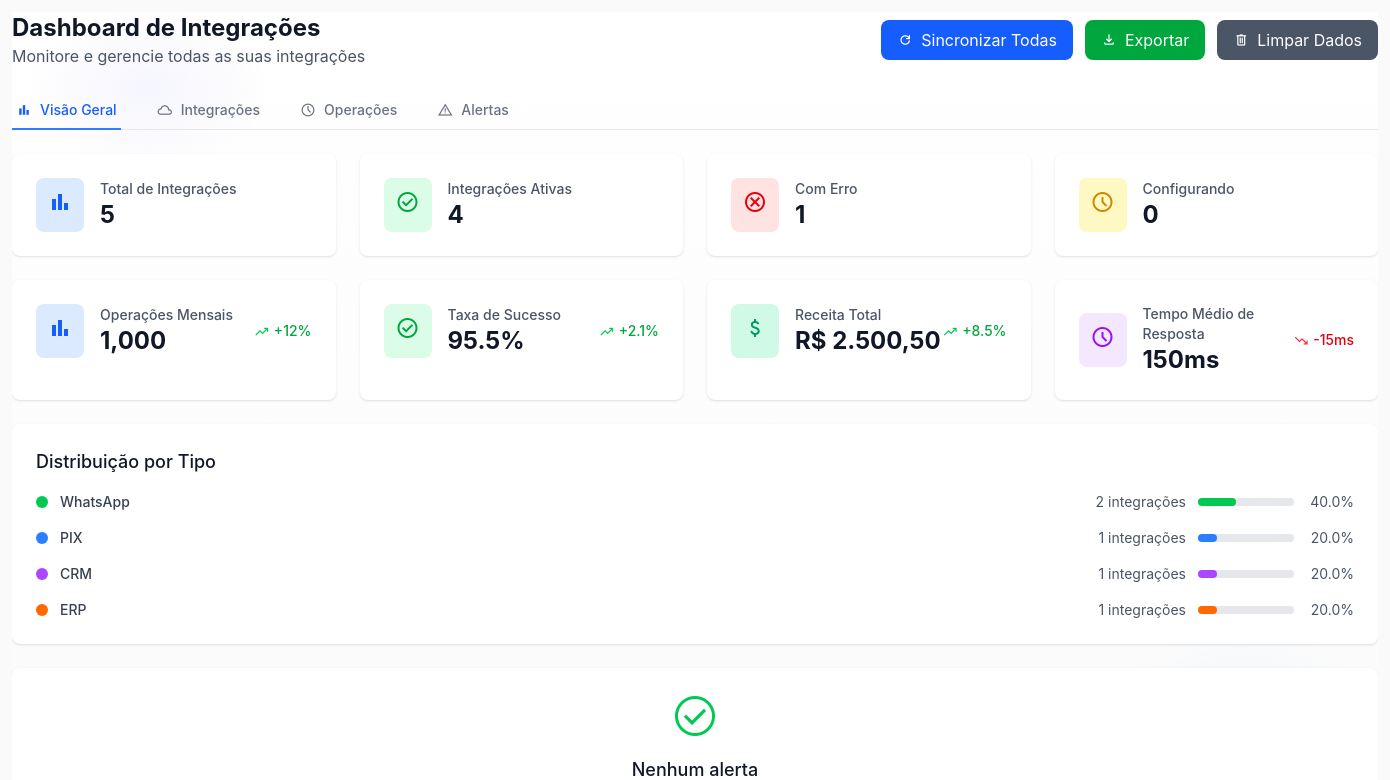
IntegrationsDashboard › renders filters when on integrations tab
This screenshot has width=1390, height=780.
Click the button "Integrações": [208, 111] box top-left (153, 92), bottom-right (264, 130)
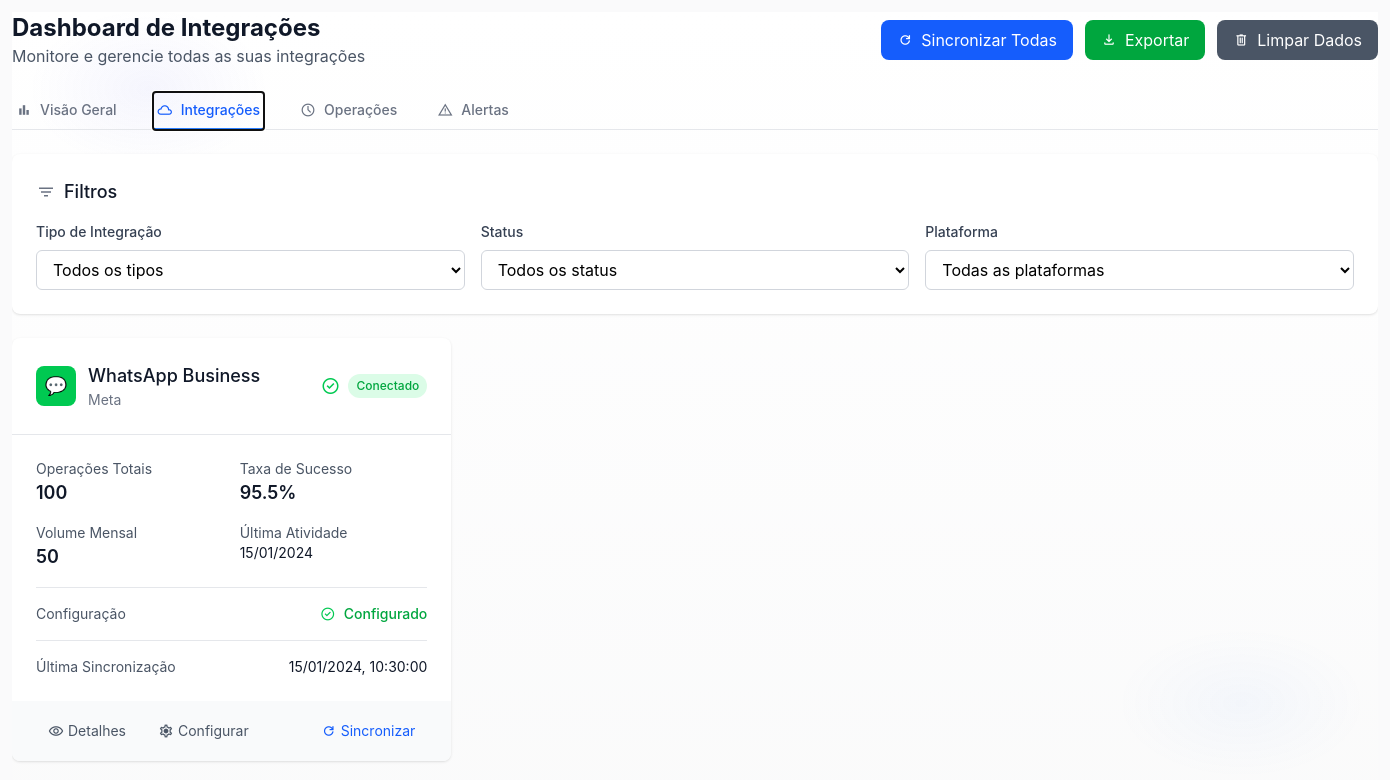
Expected: the heading "Filtros" is shown, top-left (64, 178), bottom-right (117, 206)
